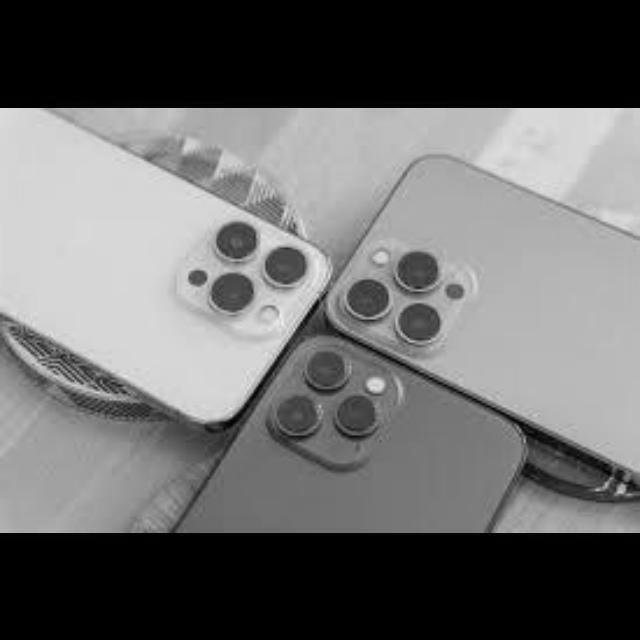fake: (86, 138, 640, 518)
